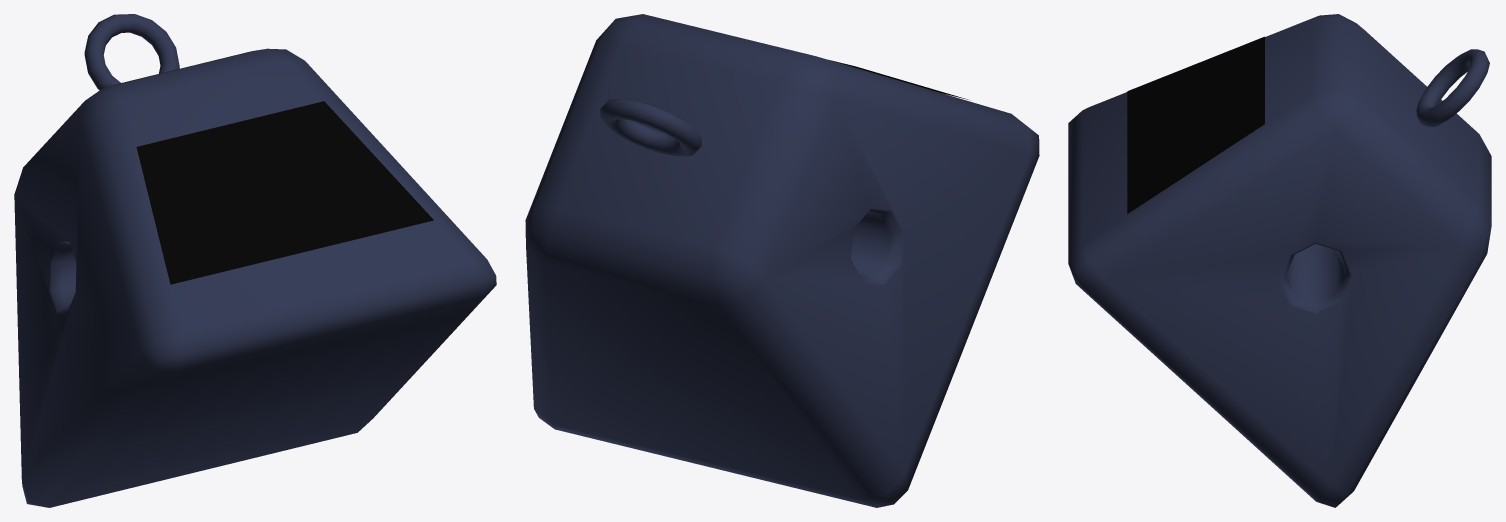
File: bead_snail.fbx
3 views of the same model, side by side, from view 1: azimuth 30°, elevation 25°; view 2: azimuth 150°, elevation 25°; view 3: azimuth 270°, elevation 25° (orthographic). The views are drawn at different scales.
Parts seen in each view (by area): view 1: bead_snail; view 2: bead_snail; view 3: bead_snail.
Part boxes in pixels (x1,y1,x2,y2): bead_snail: (14, 14, 496, 507); bead_snail: (525, 14, 1039, 507); bead_snail: (1068, 14, 1491, 507).
Bounding box in the file's own units: 1.8 × 1.99 × 1.99.
